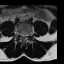CCS_stenosis: (23, 32, 24, 41)
LFS_normal: (26, 32, 28, 38)
LLS_normal: (24, 32, 26, 39)
RFS_stenosis: (20, 32, 21, 37)
RLS_normal: (21, 32, 23, 39)
